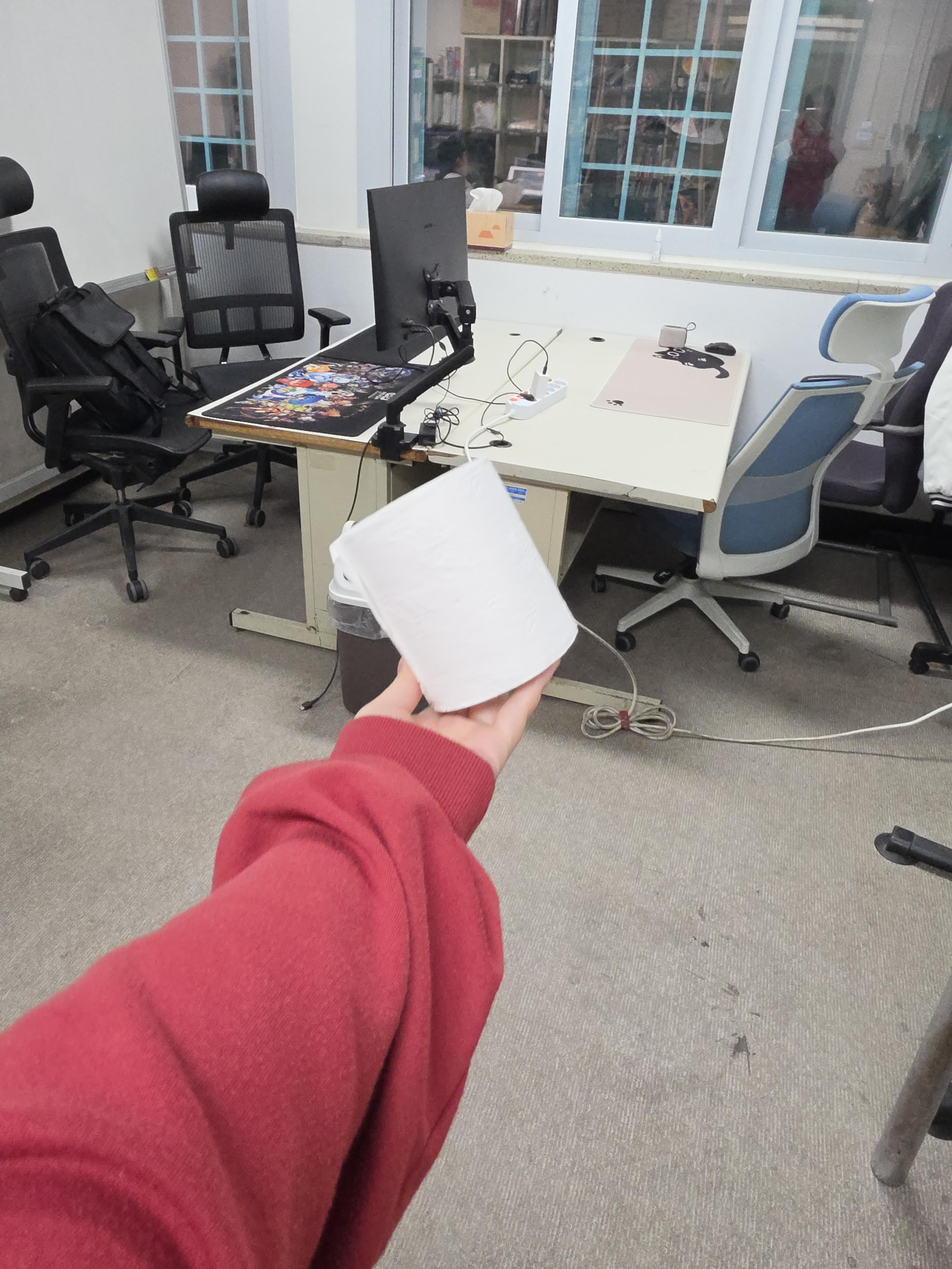tissue: (328, 458, 579, 713), (466, 187, 515, 252)
